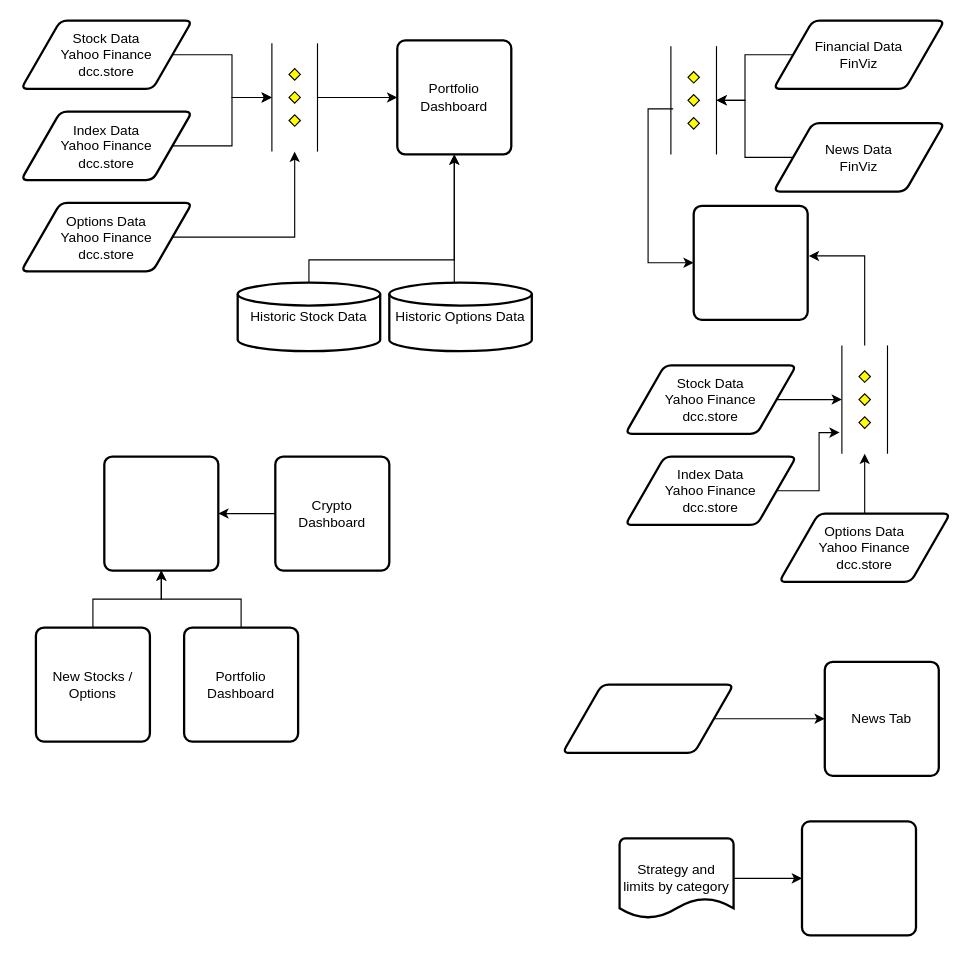
Some shapes in this 970 by 956 pixel diagram are drawn without their labels. The shapes that lost their labels are listed below. From the top down, each one's centre as x and y in pixels, then its label:
[750,262]: Investment Research Tab
[161,513]: Research Portfolio Dashboard
[647,718]: FinViz News
[858,878]: Investment Strategy Tab
